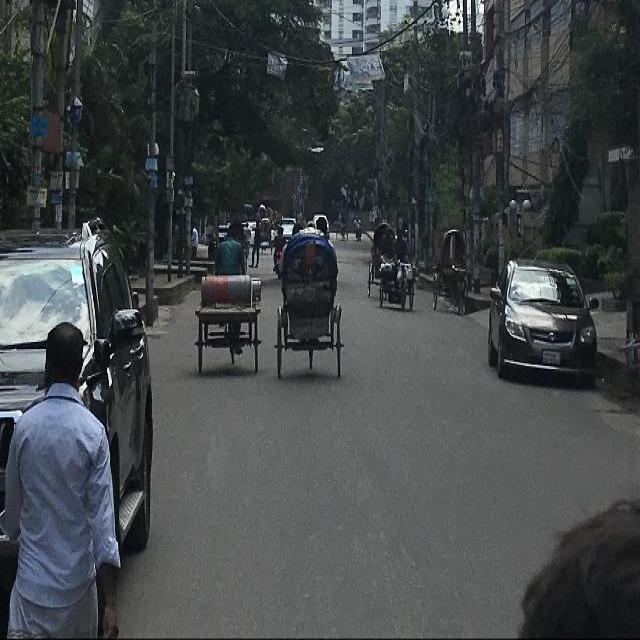bike: (274, 229, 285, 280), (354, 215, 362, 240)
vehicle: (6, 228, 155, 594), (275, 228, 341, 374), (435, 230, 469, 311), (368, 222, 394, 293), (234, 222, 249, 272), (261, 220, 274, 252), (337, 213, 349, 240)
